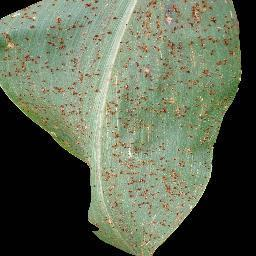Corn_Common_Rust: (91, 0, 245, 256), (0, 0, 91, 172)
